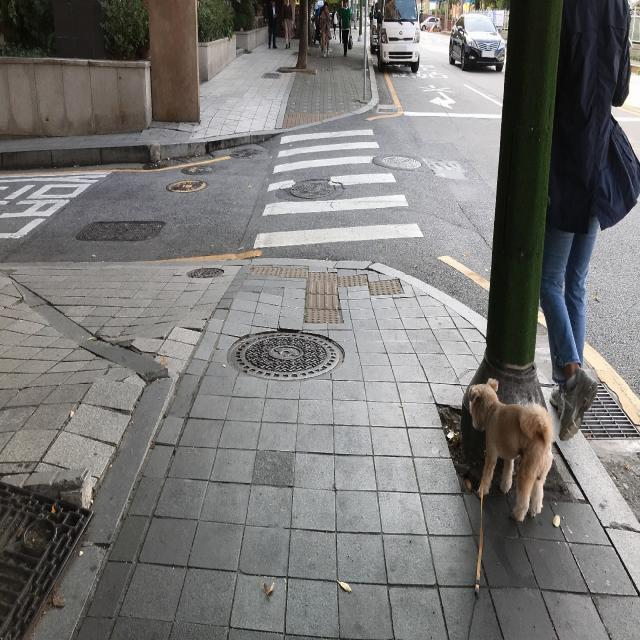횡단보도: (252, 126, 426, 252)
